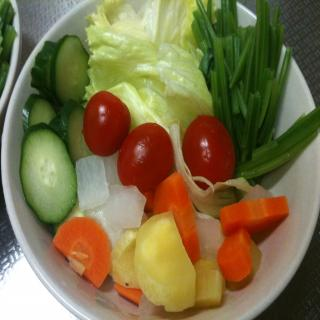Cucumber: (20, 31, 94, 223), (49, 34, 90, 106)
